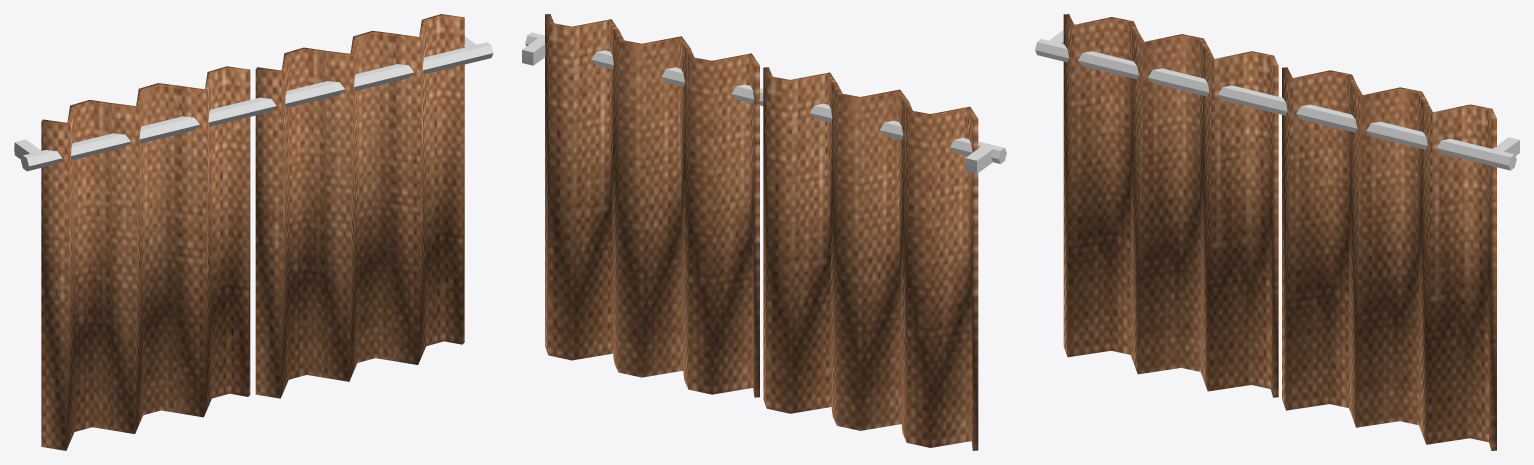
File: CurtainClose.fbx
The picture shows the model from 3 angles, left to right: view 1: azimuth 30°, elevation 25°; view 2: azimuth 150°, elevation 25°; view 3: azimuth 330°, elevation 25°; orthographic projection.
Parts seen in each view (by area): view 1: Cortina_abierta.002; view 2: Cortina_abierta.002; view 3: Cortina_abierta.002.
Boxes of the visible parts, x1=… form: Cortina_abierta.002: x1=14, y1=14, x2=493, y2=450; Cortina_abierta.002: x1=522, y1=14, x2=1006, y2=450; Cortina_abierta.002: x1=1035, y1=14, x2=1519, y2=450.
Size of the model in its own units: 4.8 by 0.4411 by 3.21.
